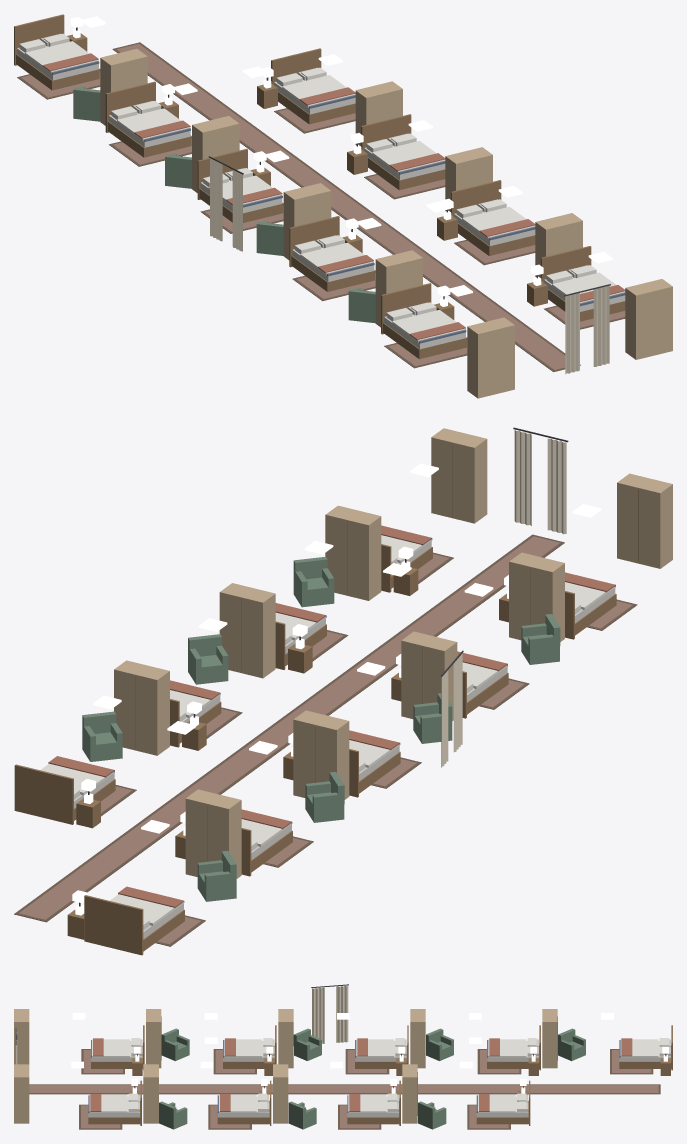
File: fine-s5.glb
3 renders of one model, top to bottom at view 1: azimuth 30°, elevation 25°; view 2: azimuth 150°, elevation 25°; view 3: azimuth 270°, elevation 25°, orthographic. The views are drawn at different scales.
Parts seen in each view (by area): view 1: soft-s5, dresser.044, dresser.039, bed-frame.041, bed-frame.043, bed-frame.044, bed-frame.040, bed-frame.036, bed-frame.037, bed-frame.038, bed-frame.042, dresser.042 (+11 smaller); view 2: soft-s5, dresser.039, dresser.044, dresser.038, dresser.037, dresser.036, dresser.040, dresser.041, dresser.043, bed-frame.040, dresser.042, bed-frame.036 (+14 smaller); view 3: soft-s5, dresser.036, dresser.037, dresser.038, dresser.039, dresser.040, dresser.041, dresser.042, dresser.043, dresser.044, bed-frame.036, bed-frame.038 (+14 smaller).
Boxes of the visible parts, left/top/right/bottom form: soft-s5: left=17, top=17, right=625, bottom=374; dresser.044: left=467, top=317, right=514, bottom=398; dresser.039: left=625, top=279, right=672, bottom=359; bed-frame.041: left=105, top=81, right=191, bottom=157; bed-frame.043: left=289, top=216, right=374, bottom=291; bed-frame.044: left=381, top=283, right=466, bottom=359; bed-frame.040: left=14, top=14, right=99, bottom=90; bed-frame.036: left=271, top=48, right=355, bottom=124; bed-frame.037: left=361, top=114, right=445, bottom=190; bed-frame.038: left=451, top=180, right=535, bottom=255; bed-frame.042: left=197, top=148, right=283, bottom=222; dresser.042: left=283, top=183, right=331, bottom=259; soft-s5: left=14, top=427, right=637, bottom=946; dresser.039: left=431, top=428, right=487, bottom=523; dresser.044: left=617, top=473, right=672, bottom=568; dresser.038: left=325, top=505, right=381, bottom=600; dresser.037: left=219, top=583, right=275, bottom=678; dresser.036: left=114, top=660, right=169, bottom=755; dresser.040: left=185, top=789, right=241, bottom=878; dresser.041: left=293, top=710, right=349, bottom=799; dresser.043: left=509, top=552, right=564, bottom=641; bed-frame.040: left=84, top=895, right=184, bottom=955; dresser.042: left=401, top=631, right=457, bottom=720; bed-frame.036: left=14, top=764, right=115, bottom=824; soft-s5: left=15, top=984, right=669, bottom=1129; dresser.036: left=402, top=1064, right=417, bottom=1123; dresser.037: left=273, top=1064, right=288, bottom=1123; dresser.038: left=143, top=1064, right=158, bottom=1123; dresser.039: left=14, top=1064, right=29, bottom=1123; dresser.040: left=542, top=1009, right=557, bottom=1068; dresser.041: left=410, top=1009, right=425, bottom=1068; dresser.042: left=278, top=1009, right=293, bottom=1068; dresser.043: left=146, top=1009, right=161, bottom=1068; dresser.044: left=14, top=1009, right=29, bottom=1064; bed-frame.036: left=476, top=1080, right=530, bottom=1125; bed-frame.038: left=217, top=1080, right=271, bottom=1125.
Bounding box in the file's own units: 8.06 × 2.51 × 25.75.
